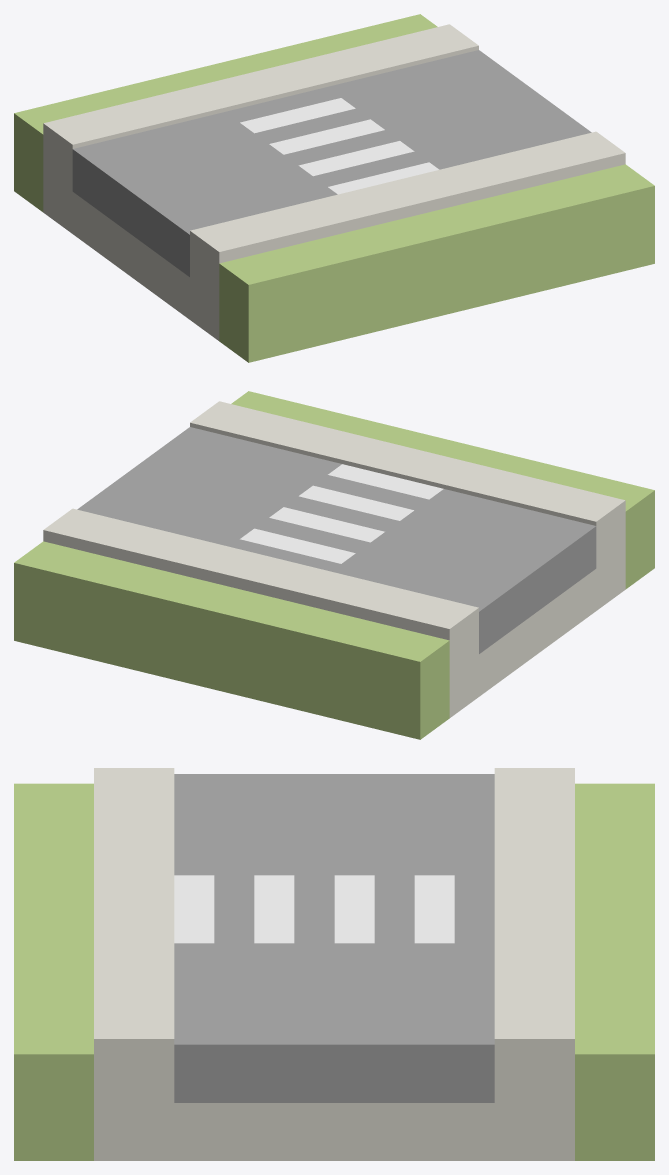
Rendered from roadTile_025.gltf.
3 renders of one model, top to bottom at view 1: azimuth 30°, elevation 25°; view 2: azimuth 150°, elevation 25°; view 3: azimuth 270°, elevation 25°, orthographic. The views are drawn at different scales.
Visible parts, largest first — view 1: roadTile_025; view 2: roadTile_025; view 3: roadTile_025.
Boxes of the visible parts, left/top/right/bottom form: roadTile_025: left=14, top=14, right=654, bottom=362; roadTile_025: left=14, top=391, right=654, bottom=739; roadTile_025: left=14, top=768, right=654, bottom=1160.
Bounding box in the file's own units: 3 × 0.63 × 3.
